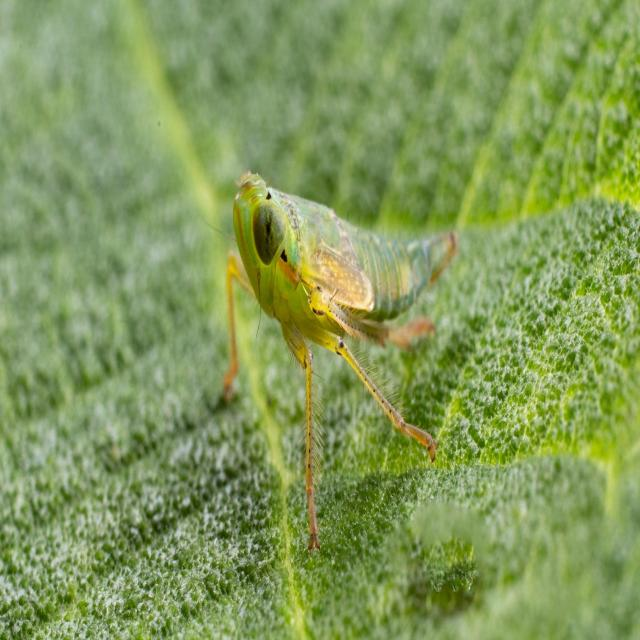Yechan: (225, 165, 477, 454)
